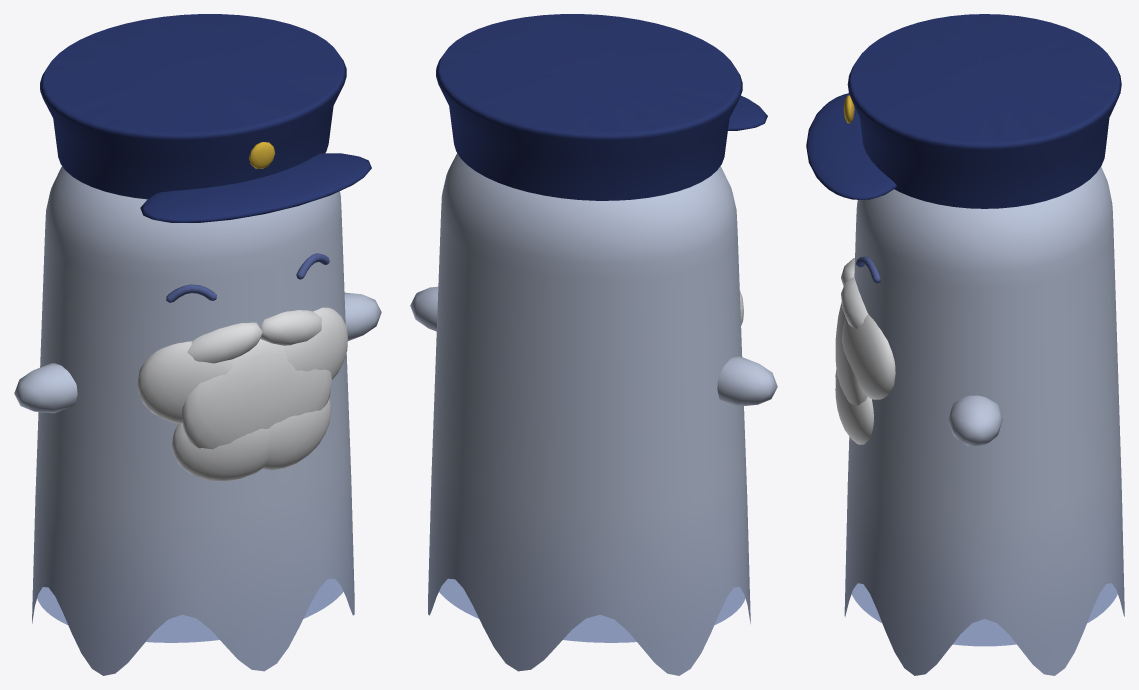
The model's file is folk_ghost.glb.
The picture shows the model from 3 angles, left to right: view 1: azimuth 30°, elevation 25°; view 2: azimuth 150°, elevation 25°; view 3: azimuth 270°, elevation 25°; orthographic projection.
Visible parts, largest first — view 1: ghost_body; view 2: ghost_body; view 3: ghost_body.
Part boxes in pixels (x1,y1,x2,y2): ghost_body: (14,14,381,675); ghost_body: (410,14,777,675); ghost_body: (806,14,1124,675).
Size of the model in its own units: 0.9224 by 1.35 by 0.7204.
